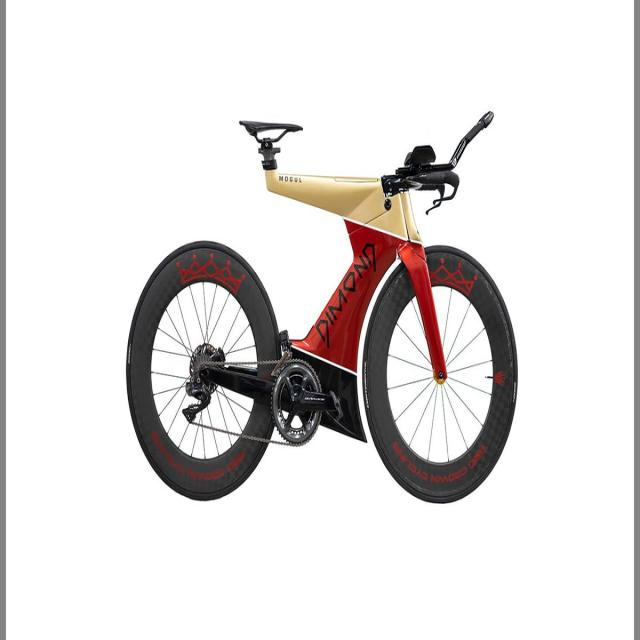TT-bike: (127, 110, 521, 507)
